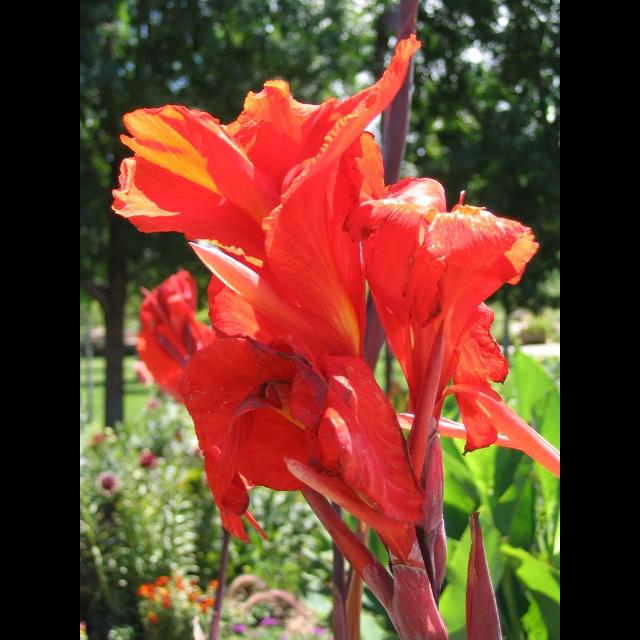Flower: (106, 36, 424, 522), (340, 178, 560, 484), (139, 576, 221, 626), (138, 452, 156, 471), (100, 473, 116, 491)
